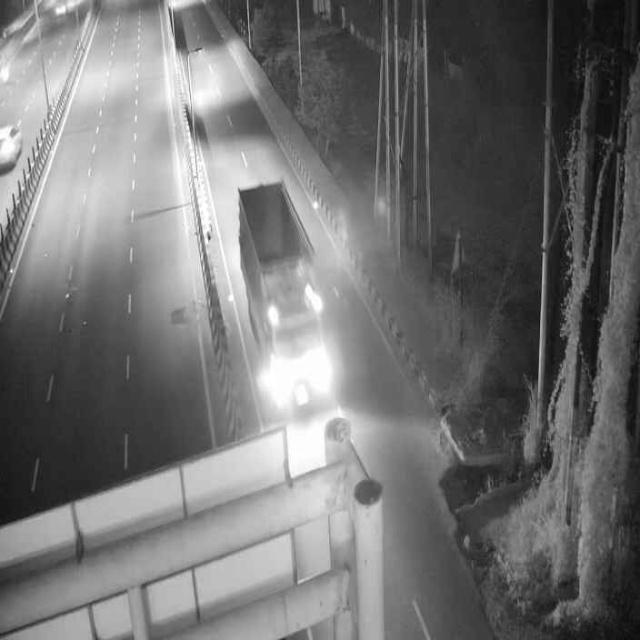car: (1, 117, 23, 177)
